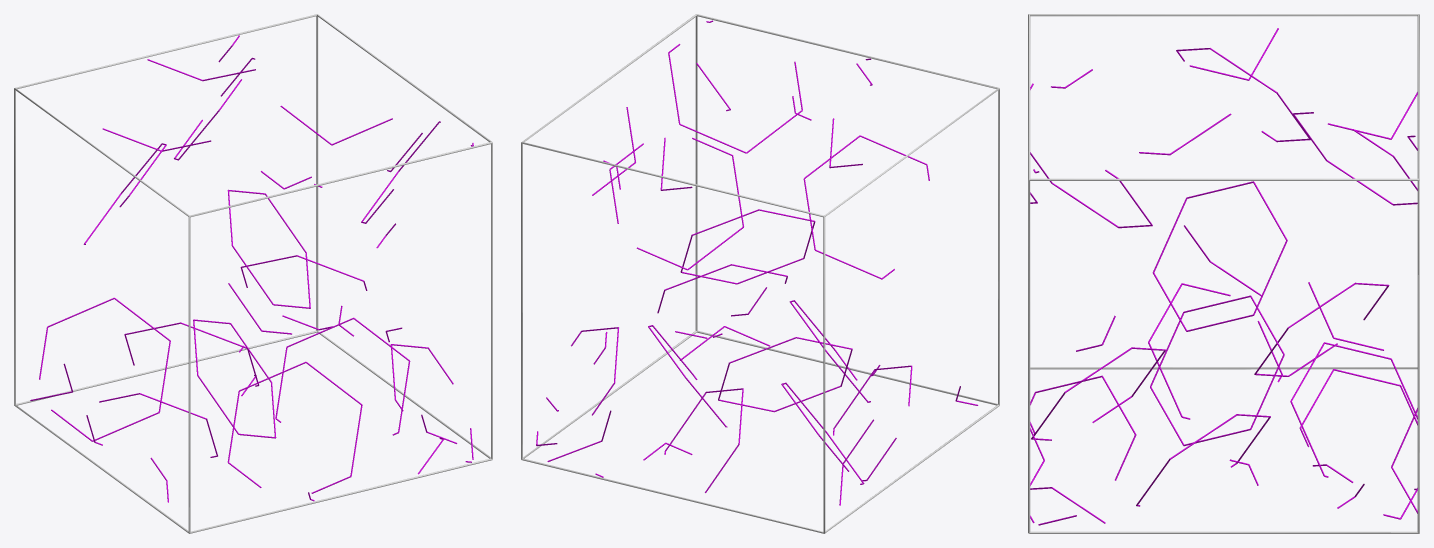
The model's file is ddd000.glb.
3 renders of one model, left to right at view 1: azimuth 30°, elevation 25°; view 2: azimuth 150°, elevation 25°; view 3: azimuth 270°, elevation 25°, orthographic. The views are drawn at different scales.
Visible parts, largest first — view 1: Shape_IndexedLineSet, Shape_IndexedLineSet.001; view 2: Shape_IndexedLineSet, Shape_IndexedLineSet.001; view 3: Shape_IndexedLineSet.001, Shape_IndexedLineSet.
Part boxes in pixels (box(x1,y1,x2,y2)): Shape_IndexedLineSet: box(14, 14, 492, 533); Shape_IndexedLineSet.001: box(30, 35, 473, 502); Shape_IndexedLineSet: box(521, 14, 999, 533); Shape_IndexedLineSet.001: box(536, 20, 978, 505); Shape_IndexedLineSet.001: box(1030, 28, 1417, 525); Shape_IndexedLineSet: box(1028, 14, 1419, 533).
Size of the model in its own units: 10.06 by 10.06 by 10.06.
